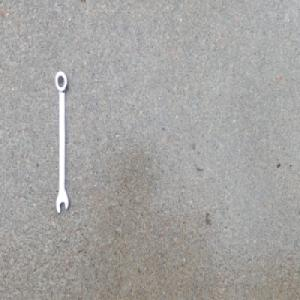Wrench: (54, 70, 70, 215)
